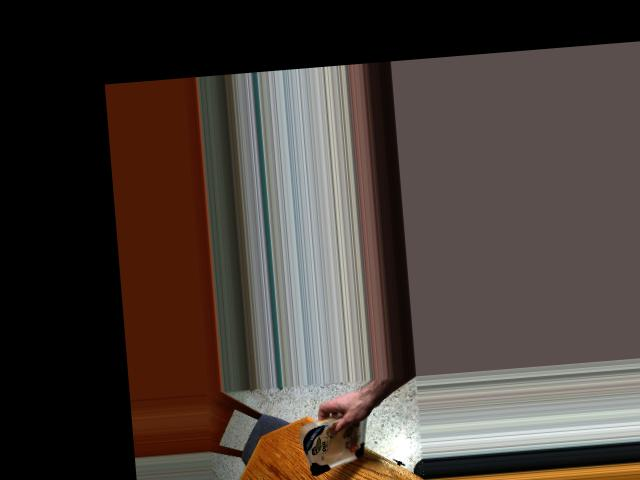cheese: (295, 415, 373, 470)
